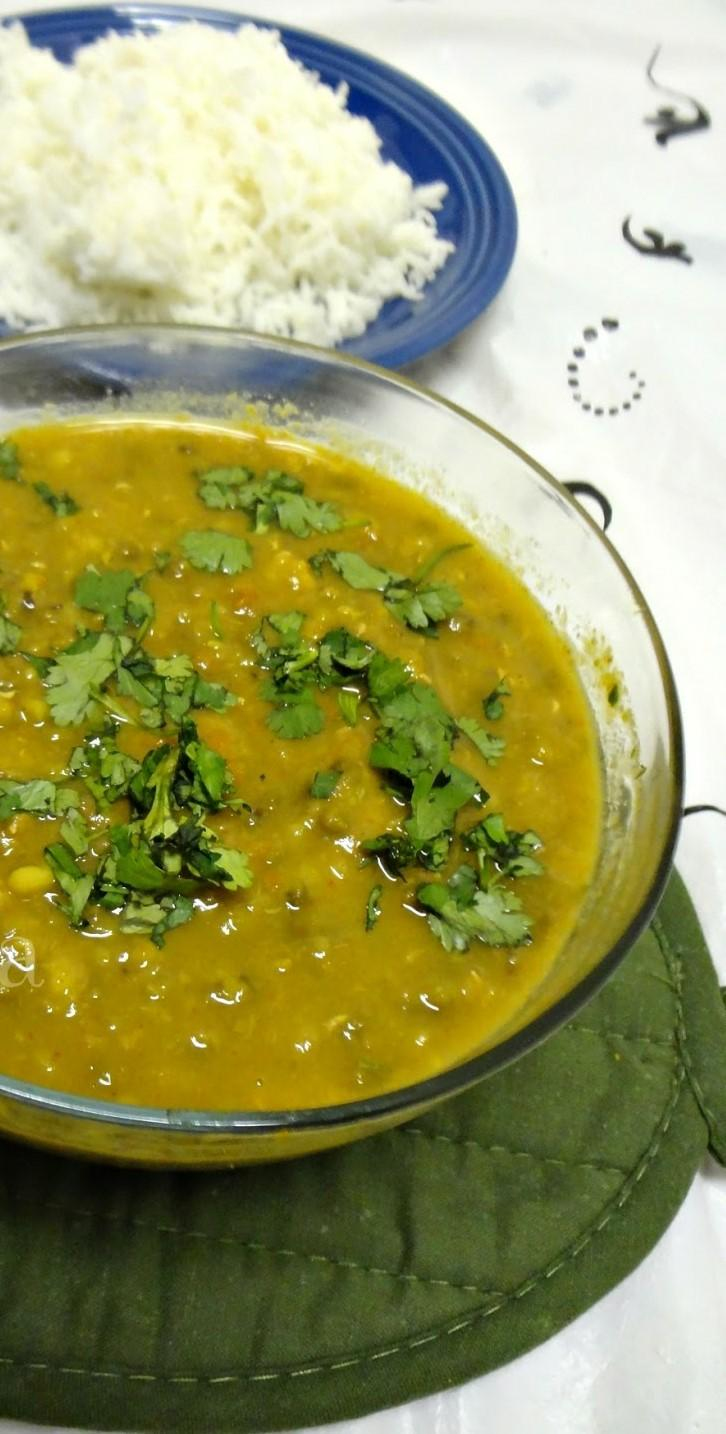Dal: (0, 421, 598, 1110)
WhiteRice: (0, 18, 458, 346)
